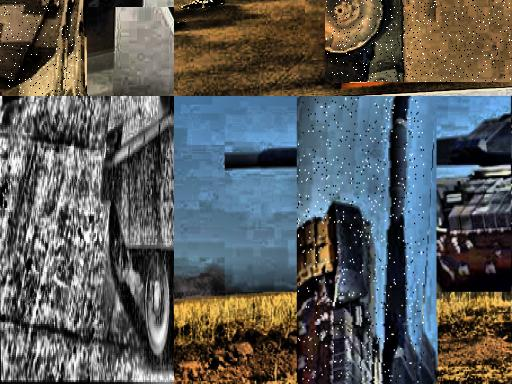tanks: (299, 99, 425, 384), (102, 97, 175, 356), (327, 1, 512, 83), (1, 1, 76, 97), (11, 98, 12, 130)
